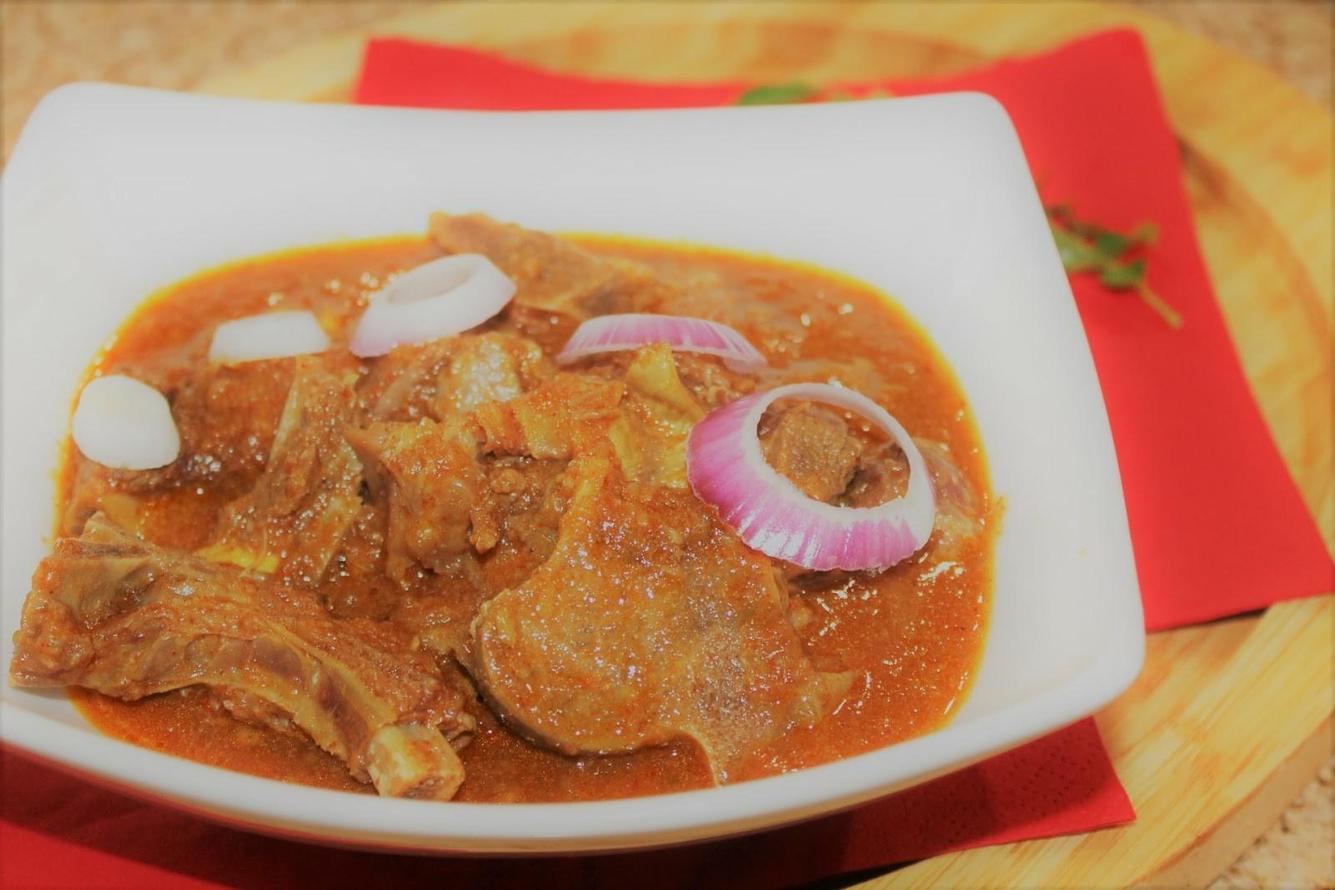MuttonCurry: (9, 205, 997, 800)
